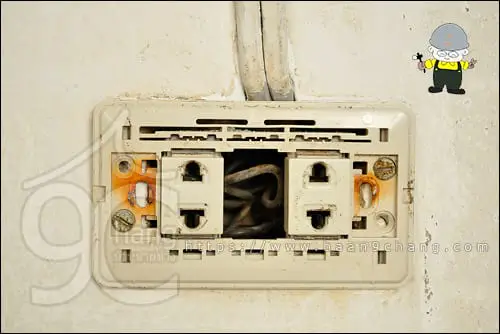Three_eye_plug: (84, 92, 419, 294)
